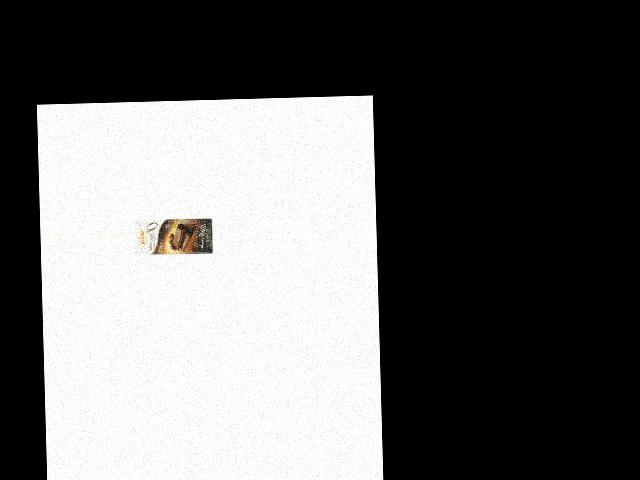chocolate: (134, 215, 213, 256)
